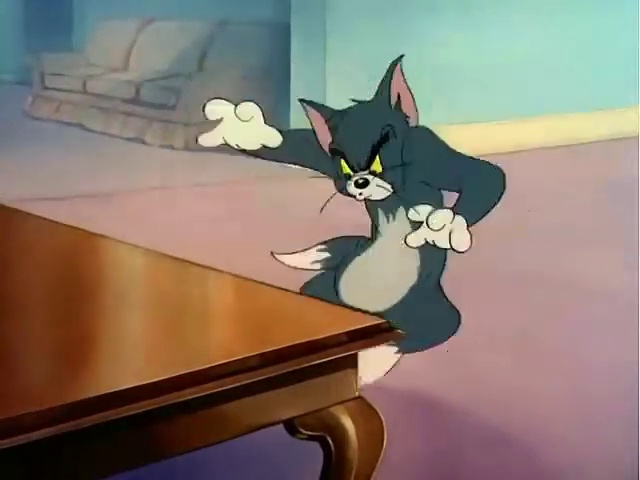tom: (183, 33, 545, 399)
